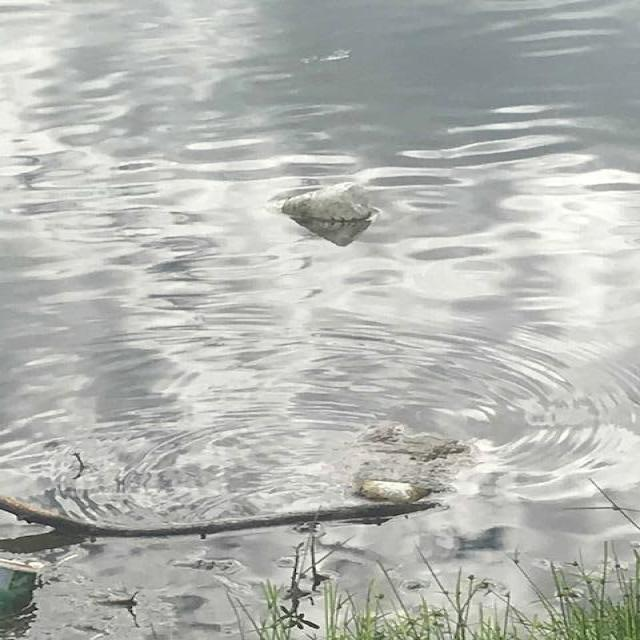litter: (276, 179, 377, 222)
